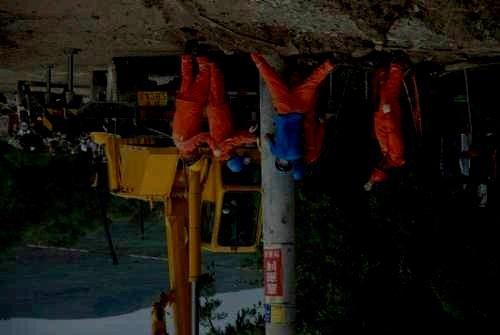helmet: (274, 157, 293, 177), (186, 153, 205, 172), (226, 153, 244, 173), (370, 163, 386, 183)
